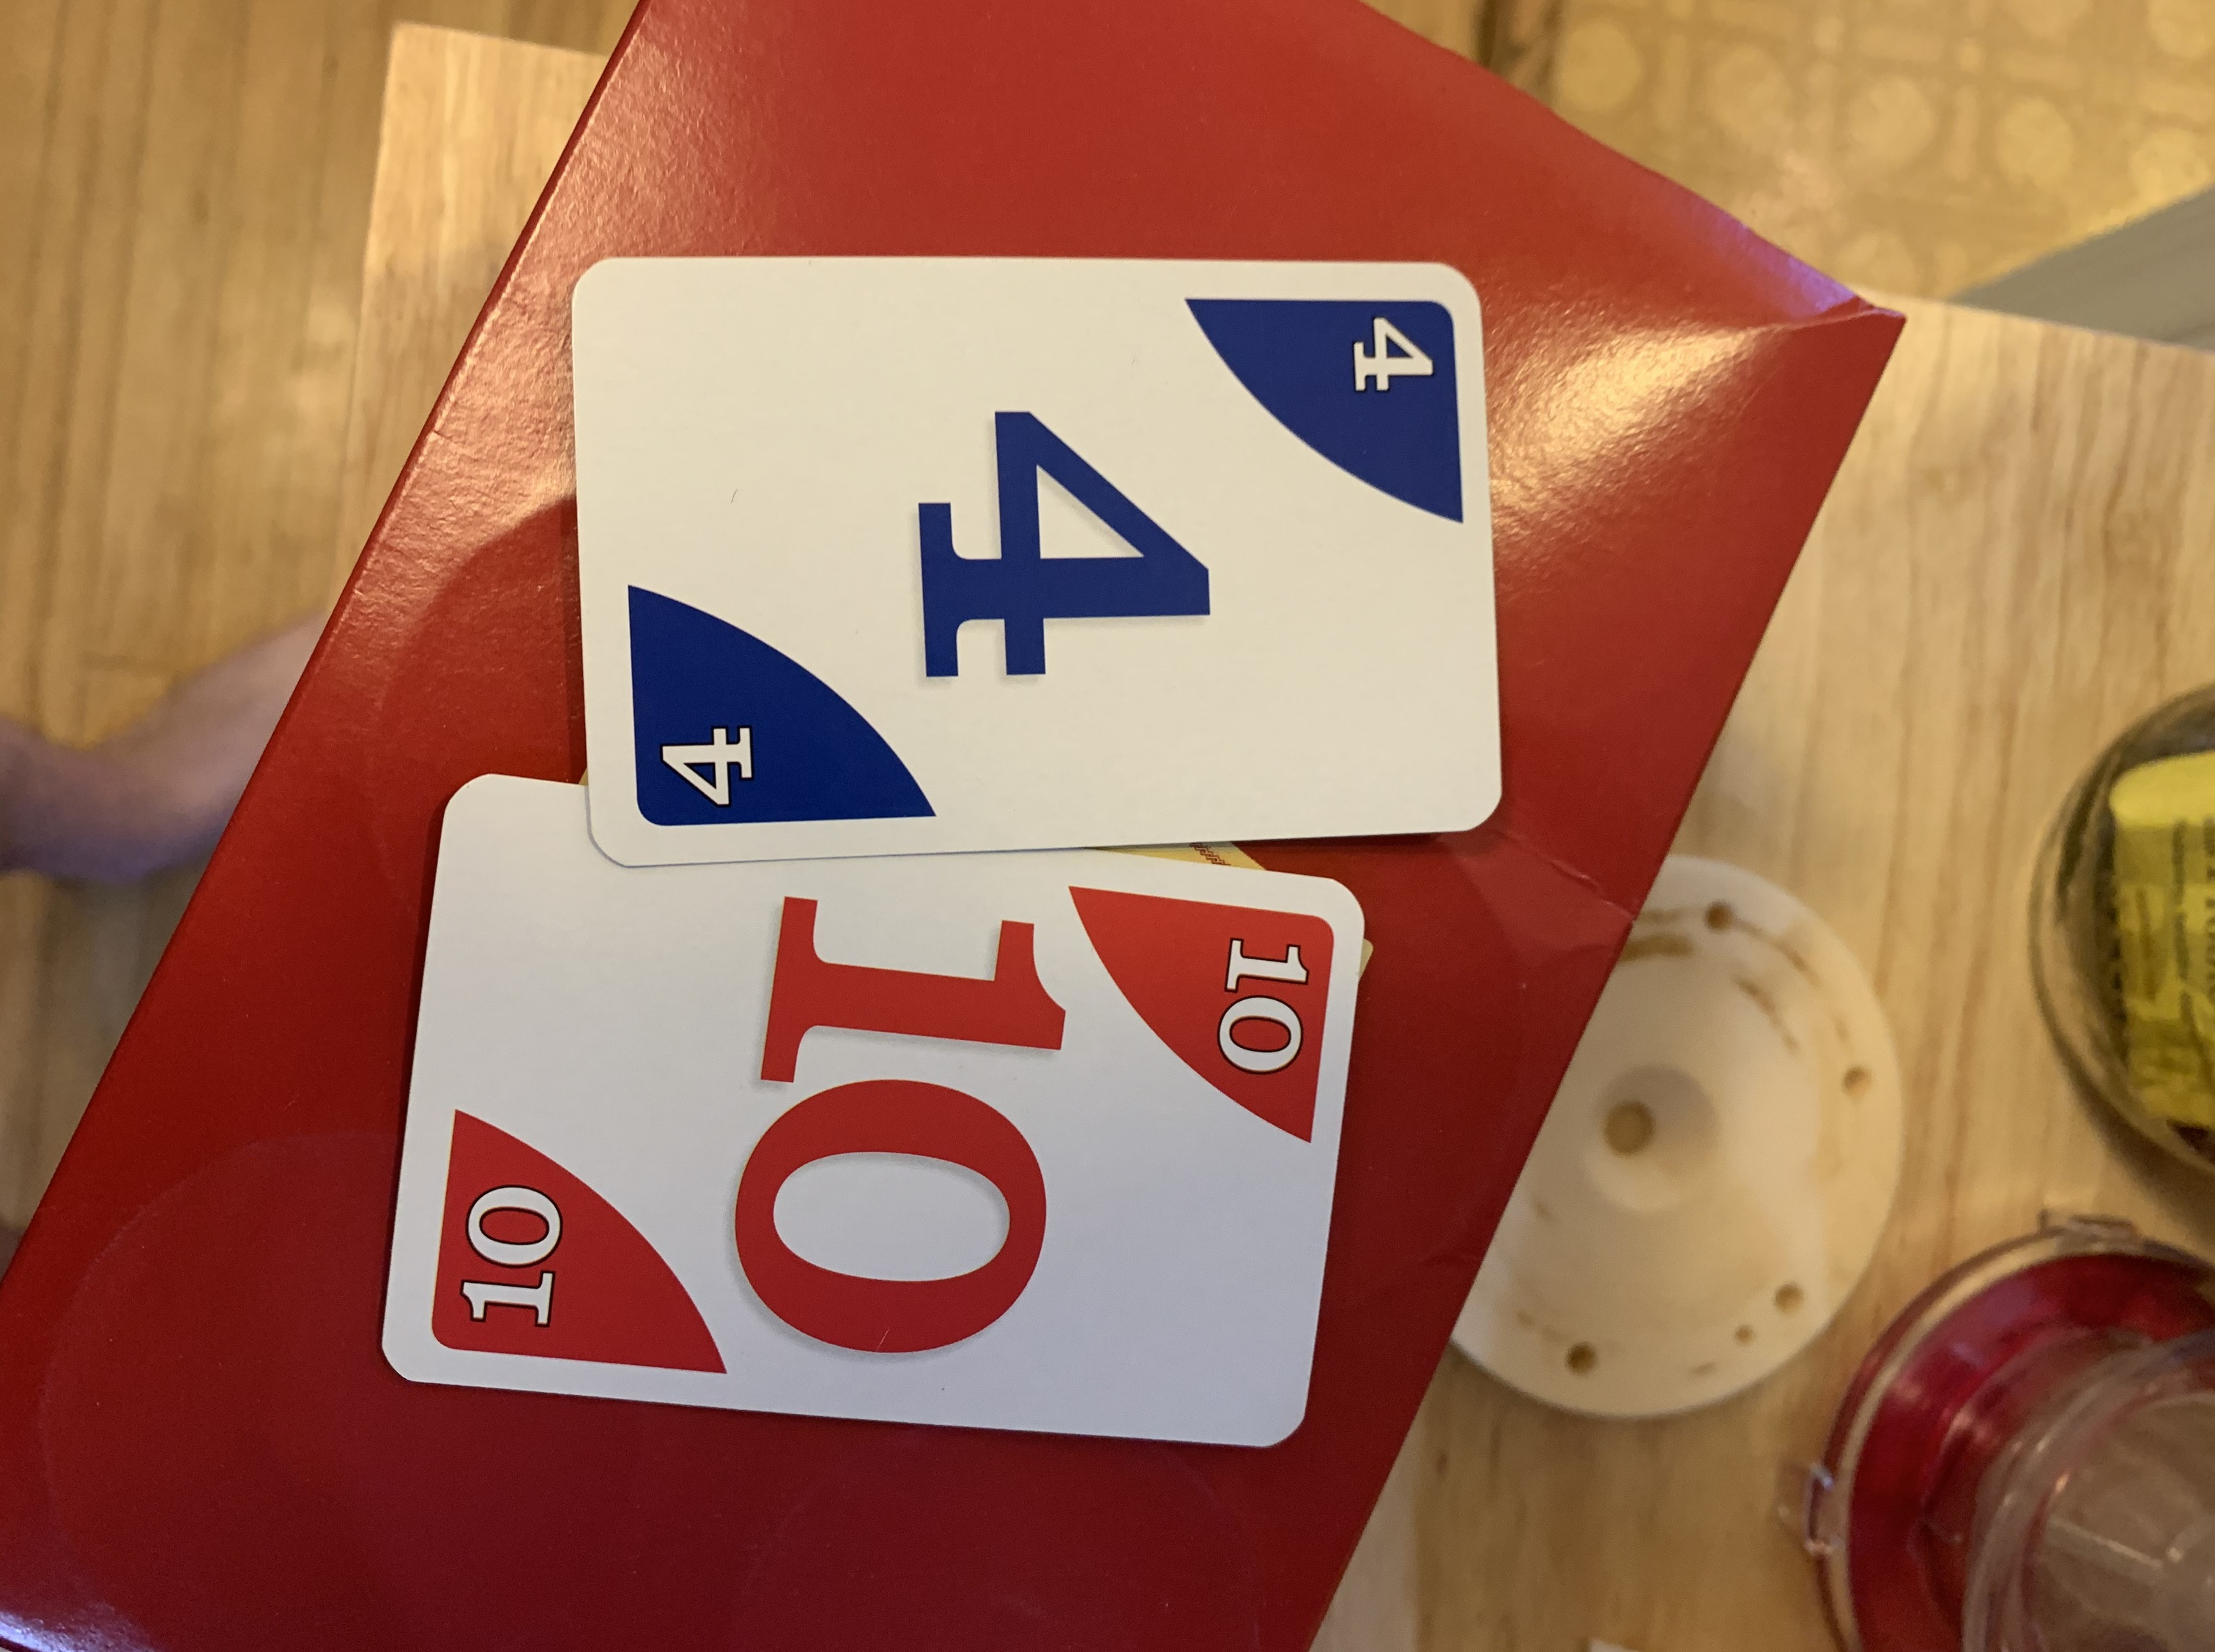four: (554, 243, 1522, 880)
ten: (375, 765, 1378, 1461)
